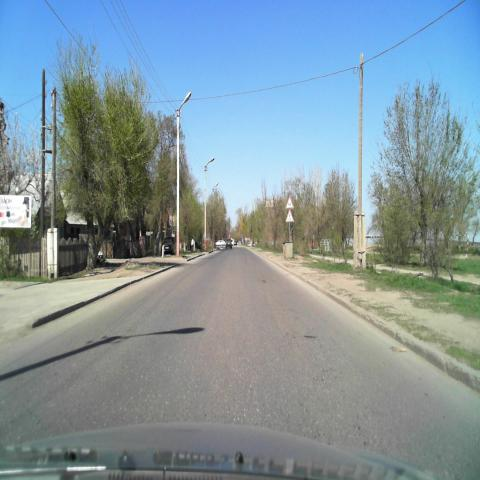1_12_2: (285, 196, 294, 209)
